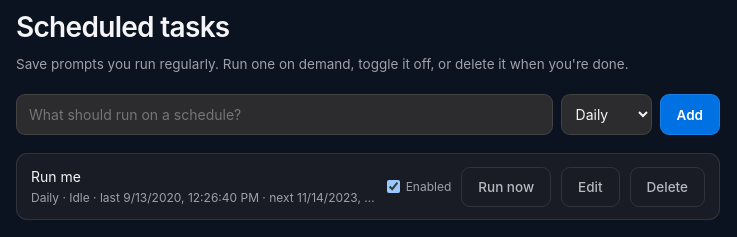
it: ScheduledView › runs a task now via run_scheduled_now and reconciles the returned task
The image size is (737, 237).
Check: the text "Run me" is shown, box [31,168,81,185]
Click the button "Run now" at (506, 187), box [461,167,551,207]
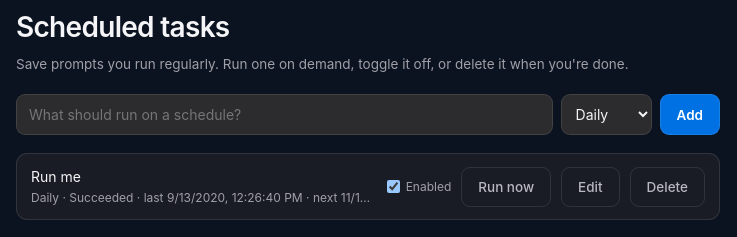
Check: the text "Succeeded" is shown, box [69,190,133,205]
